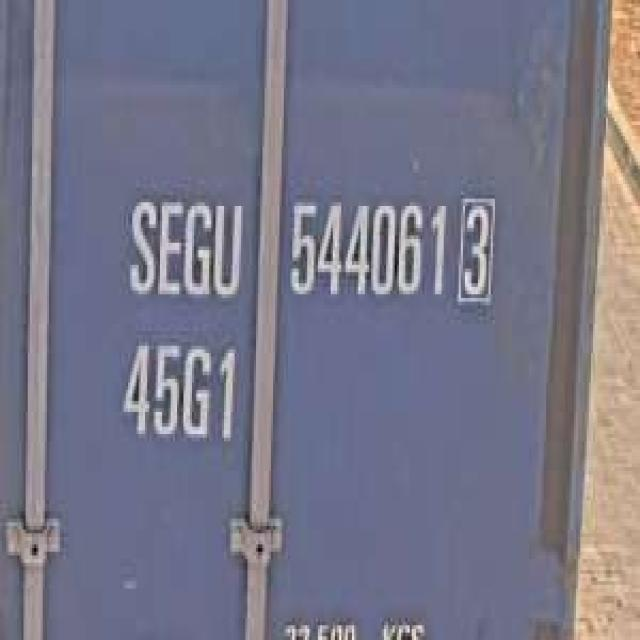dv: (454, 190, 500, 312)
owner: (120, 188, 247, 310)
serial: (286, 188, 450, 312)
size: (113, 331, 242, 455)
